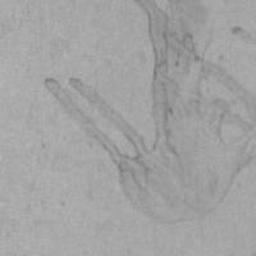Water spot: (42, 0, 256, 225), (232, 22, 256, 49)
